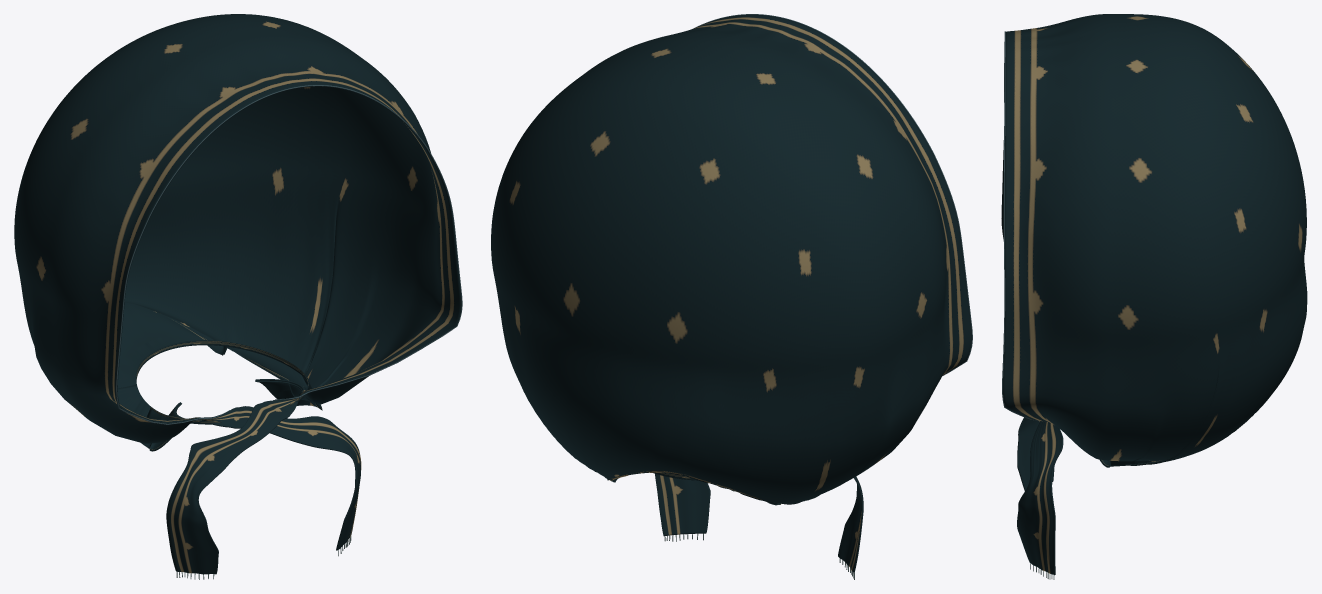
Rendered from Feminine-ponytail-jersey-pashmina251-headgear.glb.
3 views of the same model, side by side, from view 1: azimuth 30°, elevation 25°; view 2: azimuth 150°, elevation 25°; view 3: azimuth 270°, elevation 25° (orthographic). The views are drawn at different scales.
Visible parts, largest first — view 1: 226 headgear / Headwear / continuous woven pashmina239, 226 headgear / Headwear / face edge239; view 2: 226 headgear / Headwear / continuous woven pashmina239, 226 headgear / Headwear / face edge239; view 3: 226 headgear / Headwear / continuous woven pashmina239, 226 headgear / Headwear / face edge239.
Boxes of the visible parts, x1,y1,x2,y2 form: 226 headgear / Headwear / continuous woven pashmina239: (14, 14, 461, 574); 226 headgear / Headwear / face edge239: (116, 85, 462, 424); 226 headgear / Headwear / continuous woven pashmina239: (491, 14, 971, 573); 226 headgear / Headwear / face edge239: (693, 14, 972, 375); 226 headgear / Headwear / continuous woven pashmina239: (1001, 14, 1307, 575); 226 headgear / Headwear / face edge239: (1002, 31, 1041, 421).
Size of the model in its own units: 1.07 by 1.37 by 0.7569.
Materials: 3 (1 with a texture image).
